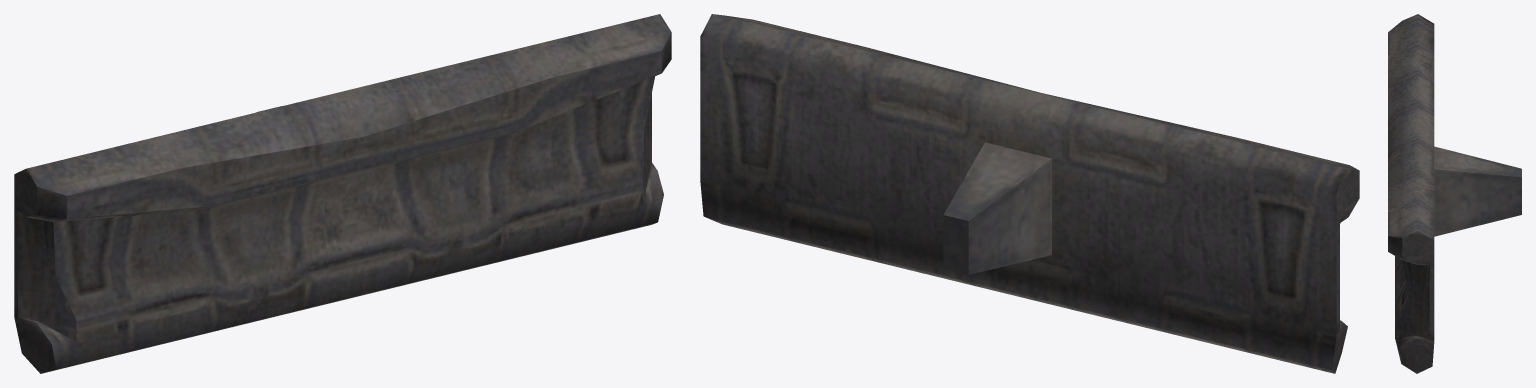
3 views of the same model, side by side, from view 1: azimuth 30°, elevation 25°; view 2: azimuth 150°, elevation 25°; view 3: azimuth 270°, elevation 25° (orthographic). The views are drawn at different scales.
Visible parts, largest first — view 1: set_0_group_0; view 2: set_0_group_0; view 3: set_0_group_0.
Part boxes in pixels (x1,y1,x2,y2): set_0_group_0: (14, 14, 671, 373); set_0_group_0: (700, 14, 1359, 373); set_0_group_0: (1388, 14, 1521, 373).
Bounding box in the file's own units: 0.567 × 0.1777 × 0.1476.
1 material, 1 textured.
